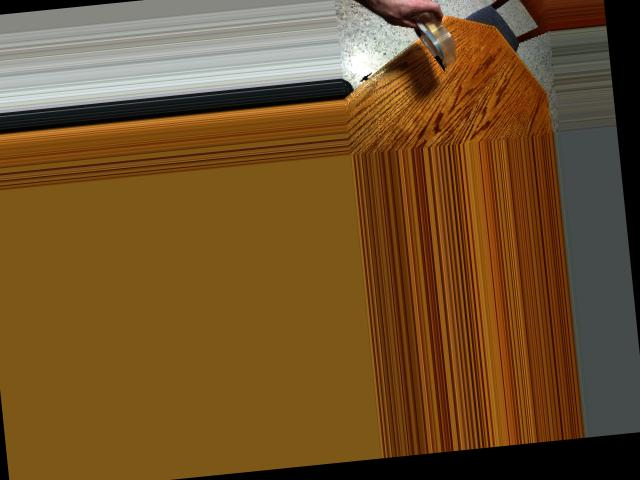cheese: (412, 6, 458, 71)
